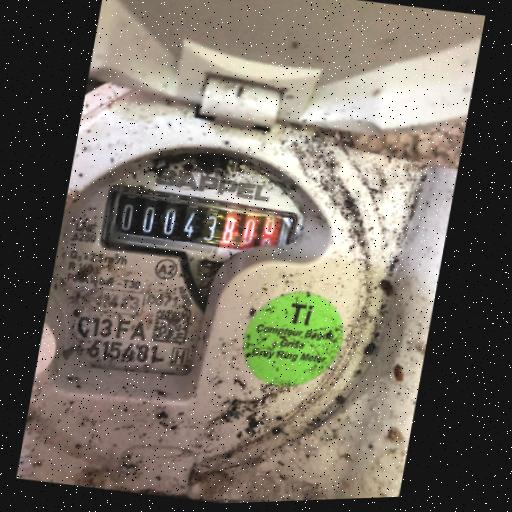0: (113, 194, 143, 235), (156, 200, 185, 241), (135, 197, 163, 238), (237, 212, 261, 252)
3: (197, 207, 225, 247)
4: (176, 203, 204, 244)
8: (218, 209, 243, 249), (258, 214, 283, 250)
border_water_meter_number: (95, 175, 302, 277)
